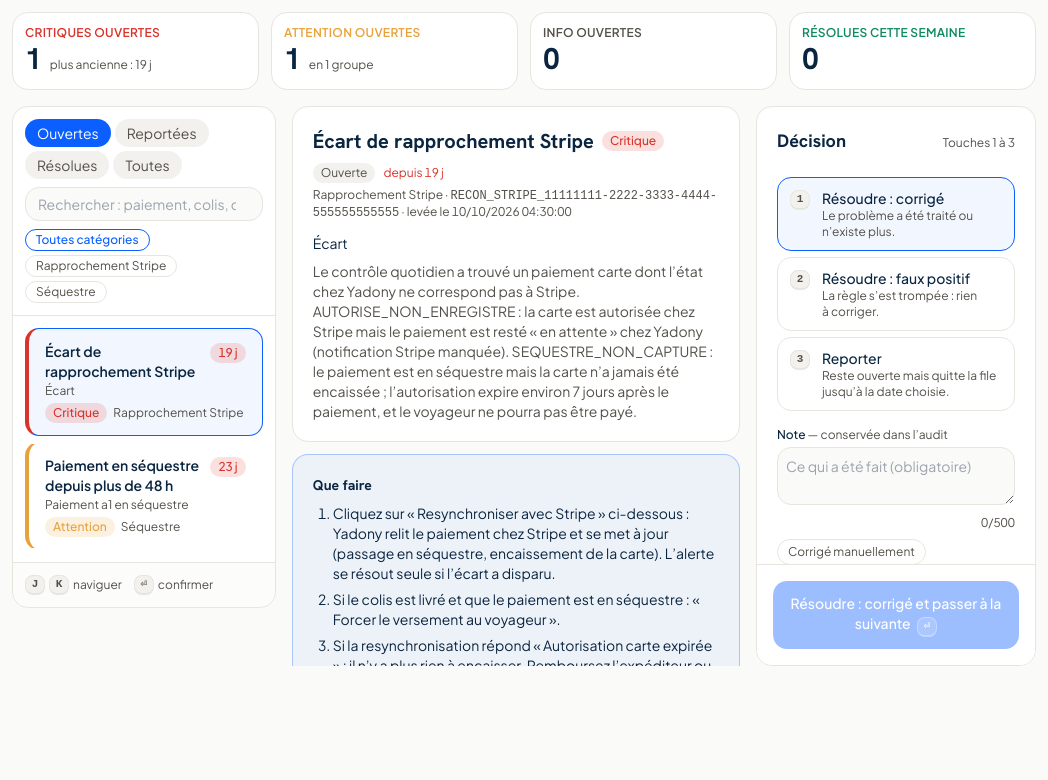
it: pages/alertes › résout l’alerte avec une note et passe à la suivante
In the text box with test id "alert-note": (896, 476) [777, 447, 1015, 505], type "Colis encore en route, rien à faire"
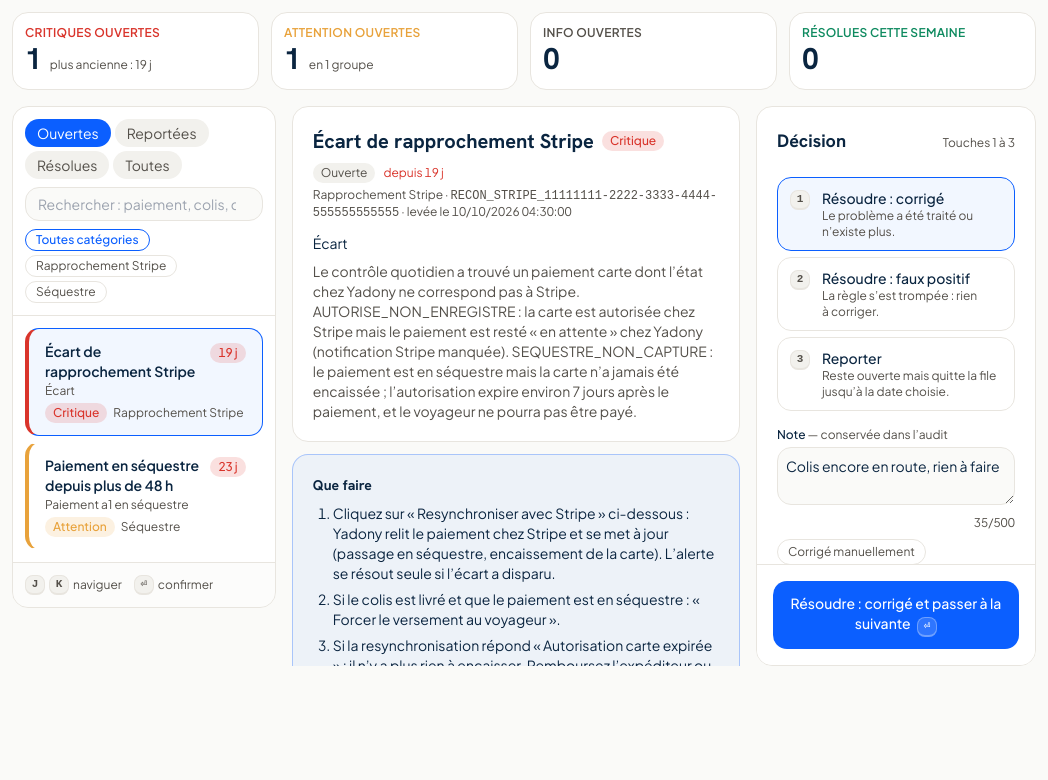
Click the button with test id "alert-confirm": (896, 615) [773, 581, 1019, 649]
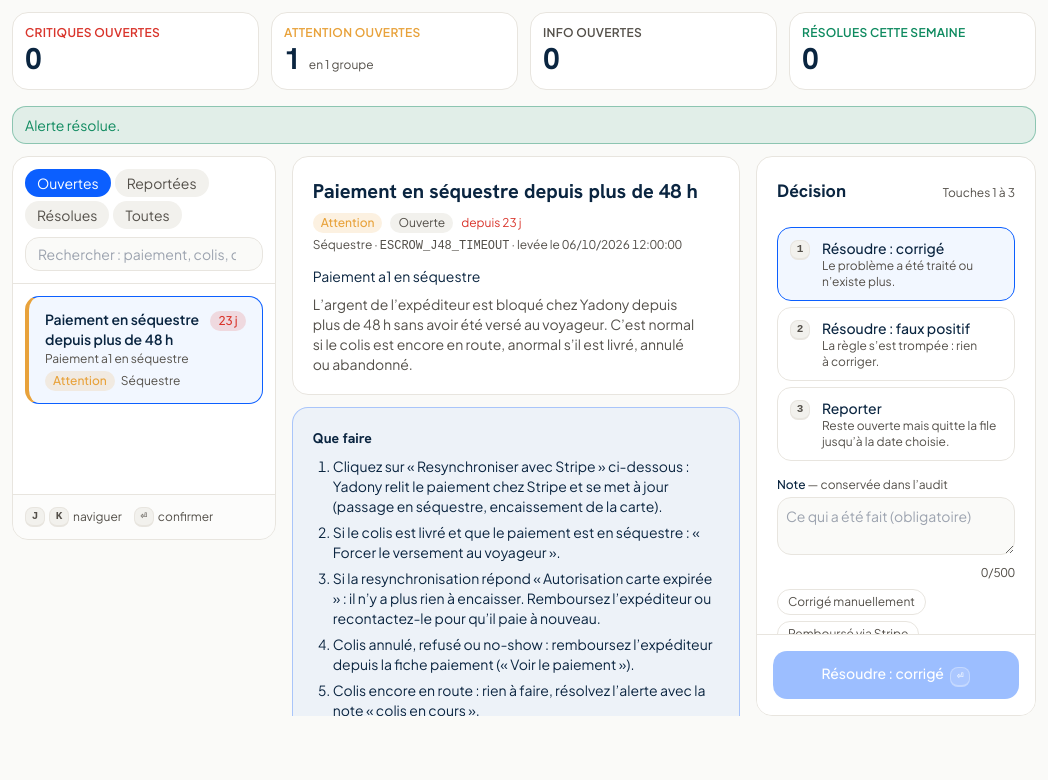
Expected: the message with test id "alerts-done" reads "Alerte résolue.", [25, 116, 120, 134]
